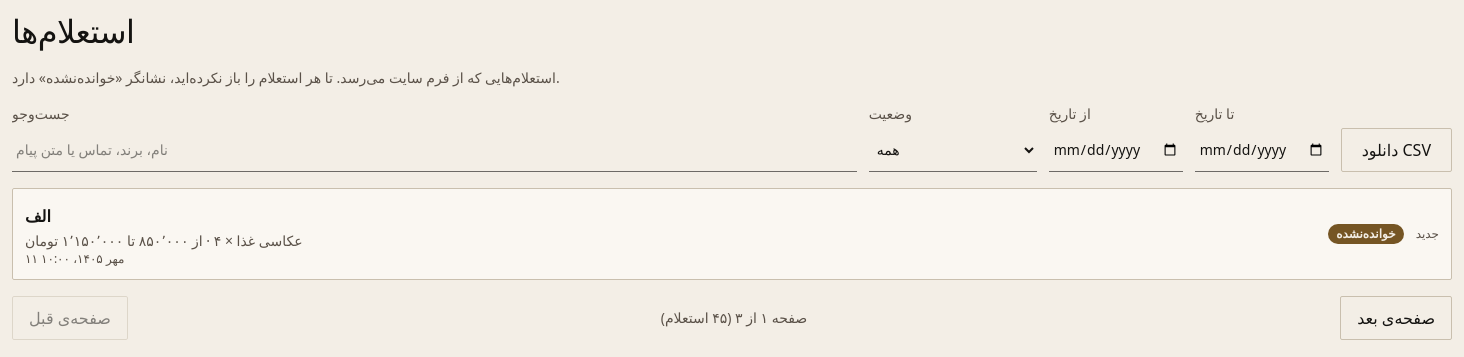
Test: InquiriesManager › sends the filters to the server and starts again from the first page
expect the text "الف" is shown: met, box [25,205,51,227]
expect the text "صفحه ۱ از ۳ (۴۵ استعلام)" is shown: met, box [661,308,807,328]
Click the button "صفحه‌ی بعد" at (1396, 318), box [1340,296,1452,340]
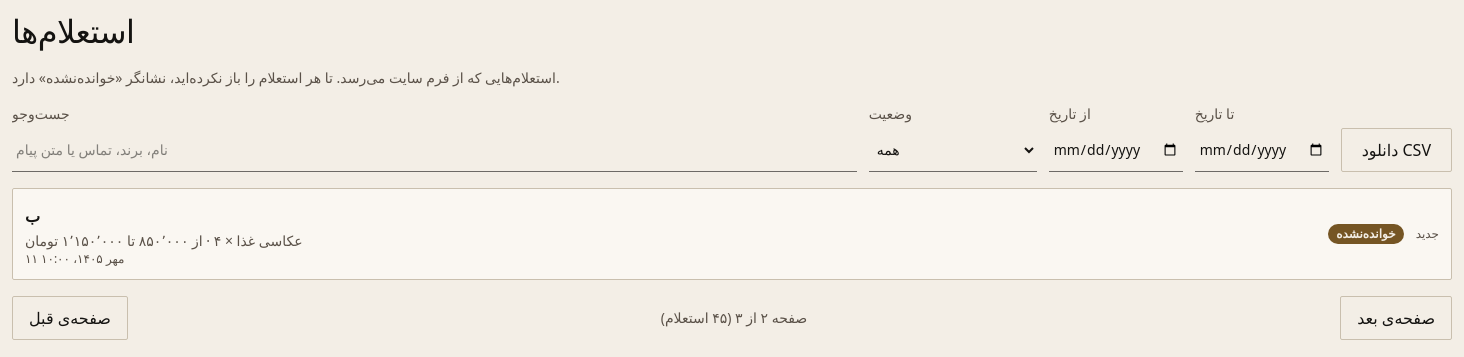
expect the text "ب" is shown: met, box [25,205,40,227]
Select "در بررسی" in the dropdown labelled "وضعیت" at (953, 150), box [869,128,1037,172]
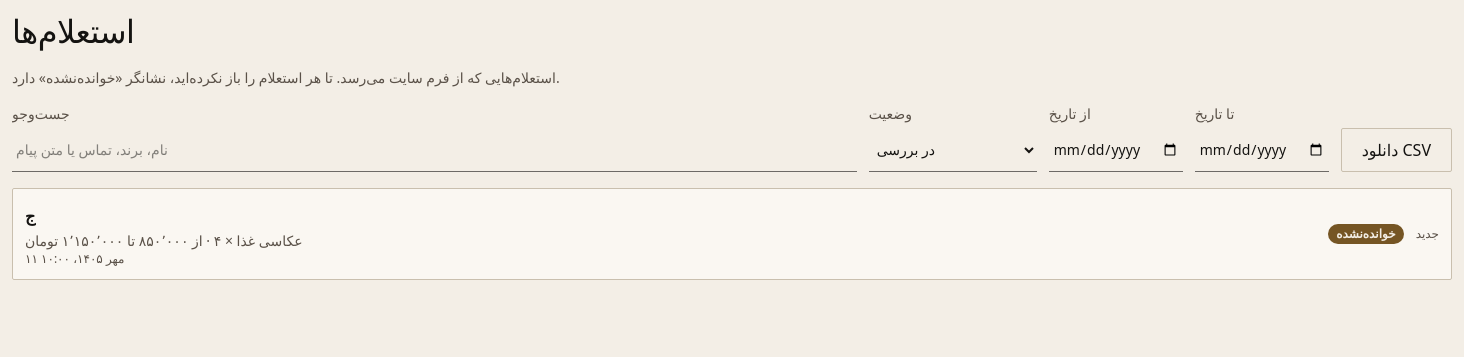
expect the text "ج" is shown: met, box [25,205,35,227]
